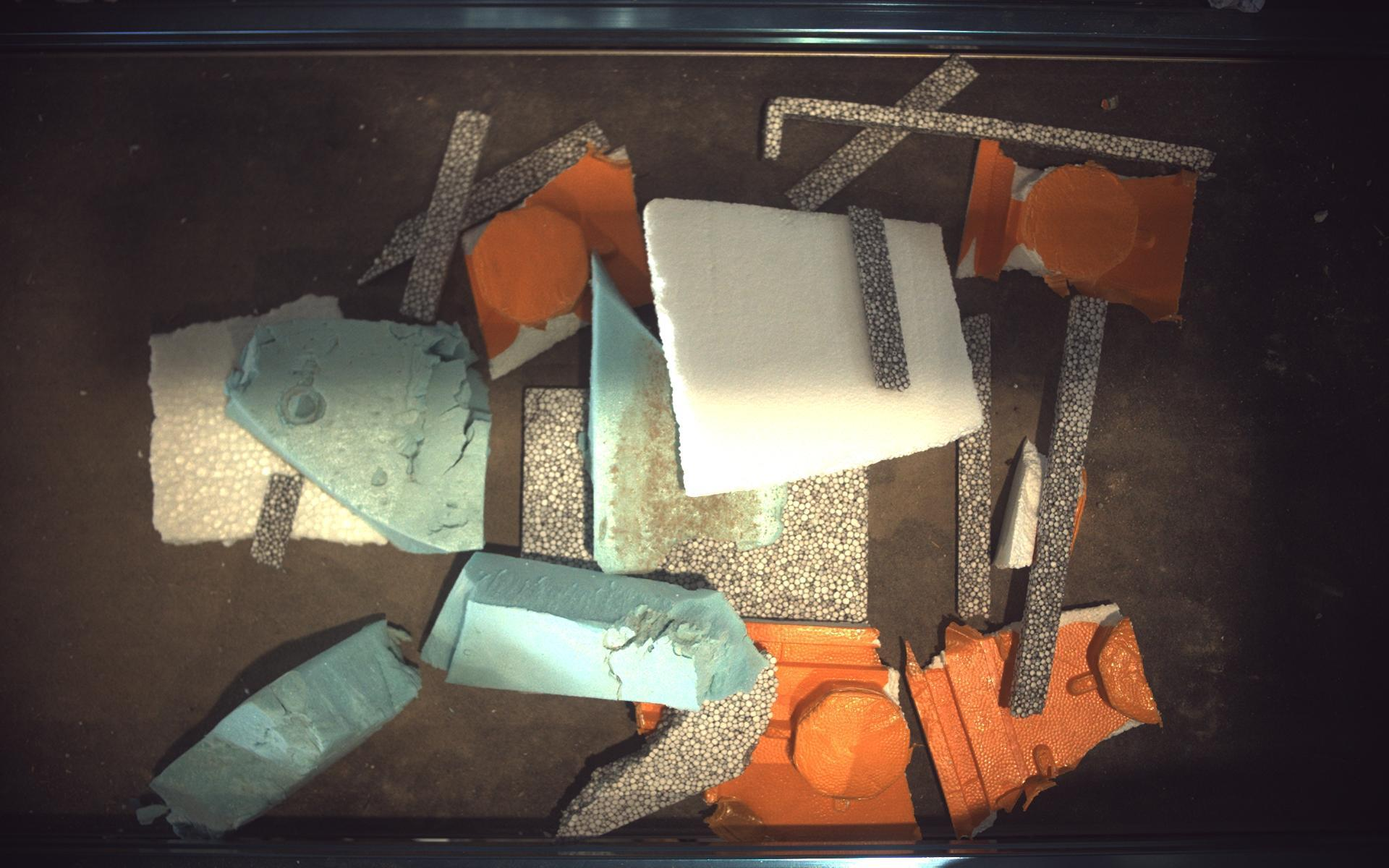foam: (645, 197, 984, 497), (765, 54, 1217, 209), (225, 318, 490, 554), (590, 255, 786, 574), (135, 620, 421, 838), (909, 605, 1163, 839), (422, 553, 768, 711), (148, 294, 341, 545), (706, 623, 922, 841), (465, 145, 653, 378), (959, 139, 1199, 321), (1011, 294, 1110, 719), (557, 660, 778, 839), (658, 468, 870, 624), (399, 110, 490, 323), (461, 120, 611, 229), (522, 388, 597, 569), (850, 205, 912, 391), (788, 124, 912, 210), (959, 313, 993, 620), (995, 438, 1050, 569), (291, 480, 386, 545), (357, 210, 426, 285), (250, 474, 304, 569), (897, 54, 980, 111), (1073, 469, 1089, 553), (636, 703, 666, 736)
